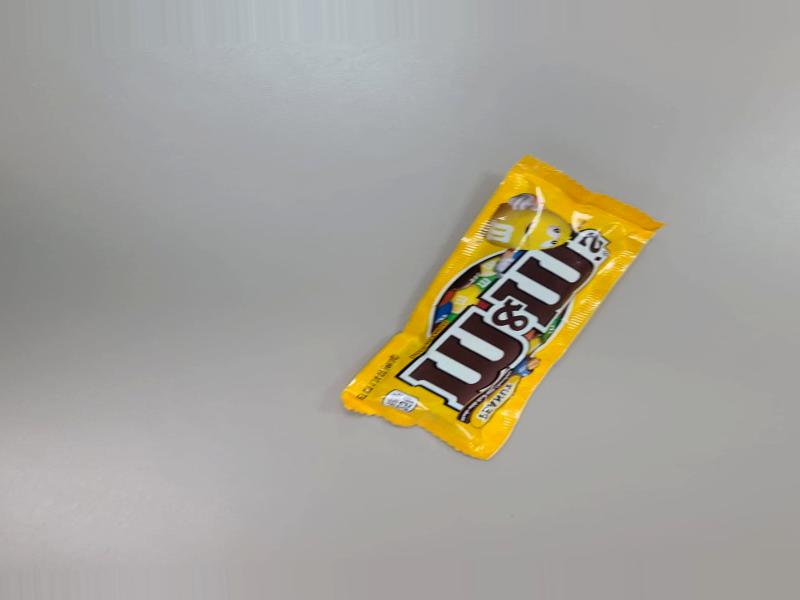m&m: (358, 136, 642, 466)
